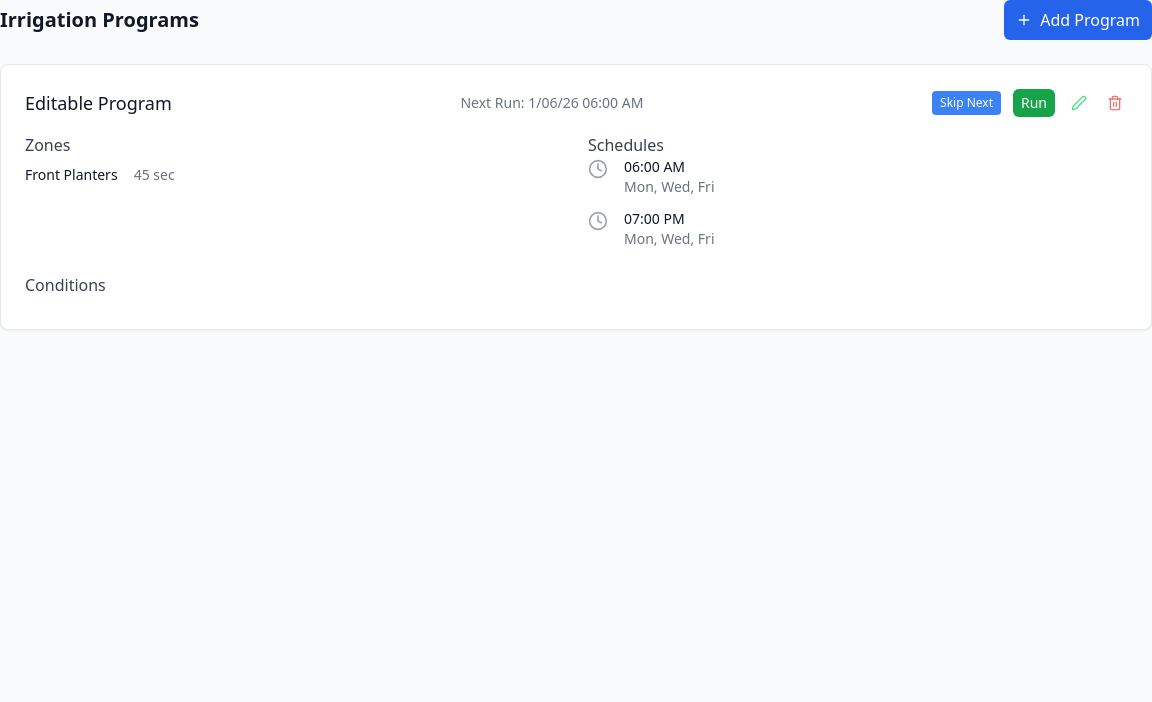
Test: ProgramManager › shows one editable row per schedule entry in edit mode
This screenshot has width=1152, height=702.
Click the button named "Edit program Editable Program". click: (1079, 103)
box: [1067, 91, 1091, 115]
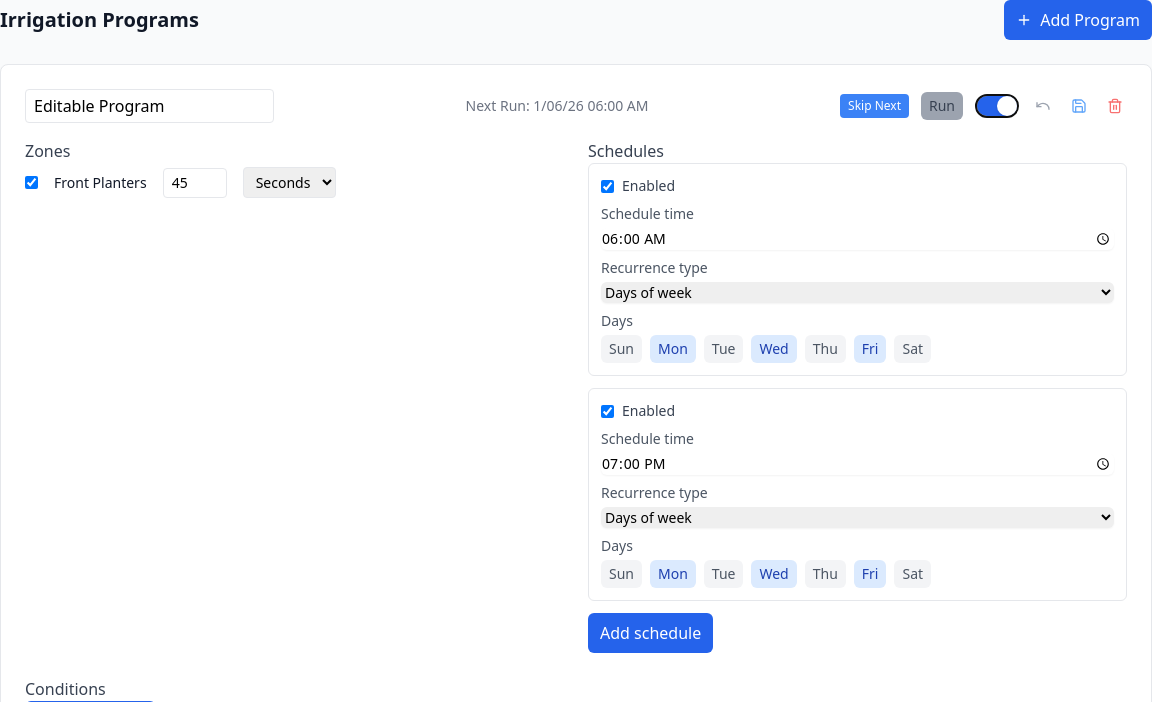
Now the number of time fields named "Schedule time" is 2, box [601, 228, 1114, 250]; [601, 453, 1114, 475]
Now the button "Add schedule" is shown, box [588, 613, 713, 653]
